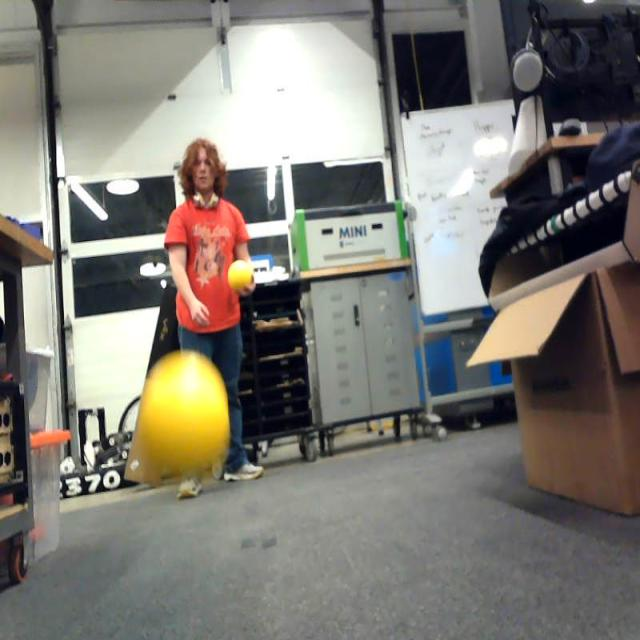Fuel: (140, 351, 228, 476), (228, 260, 251, 291)
